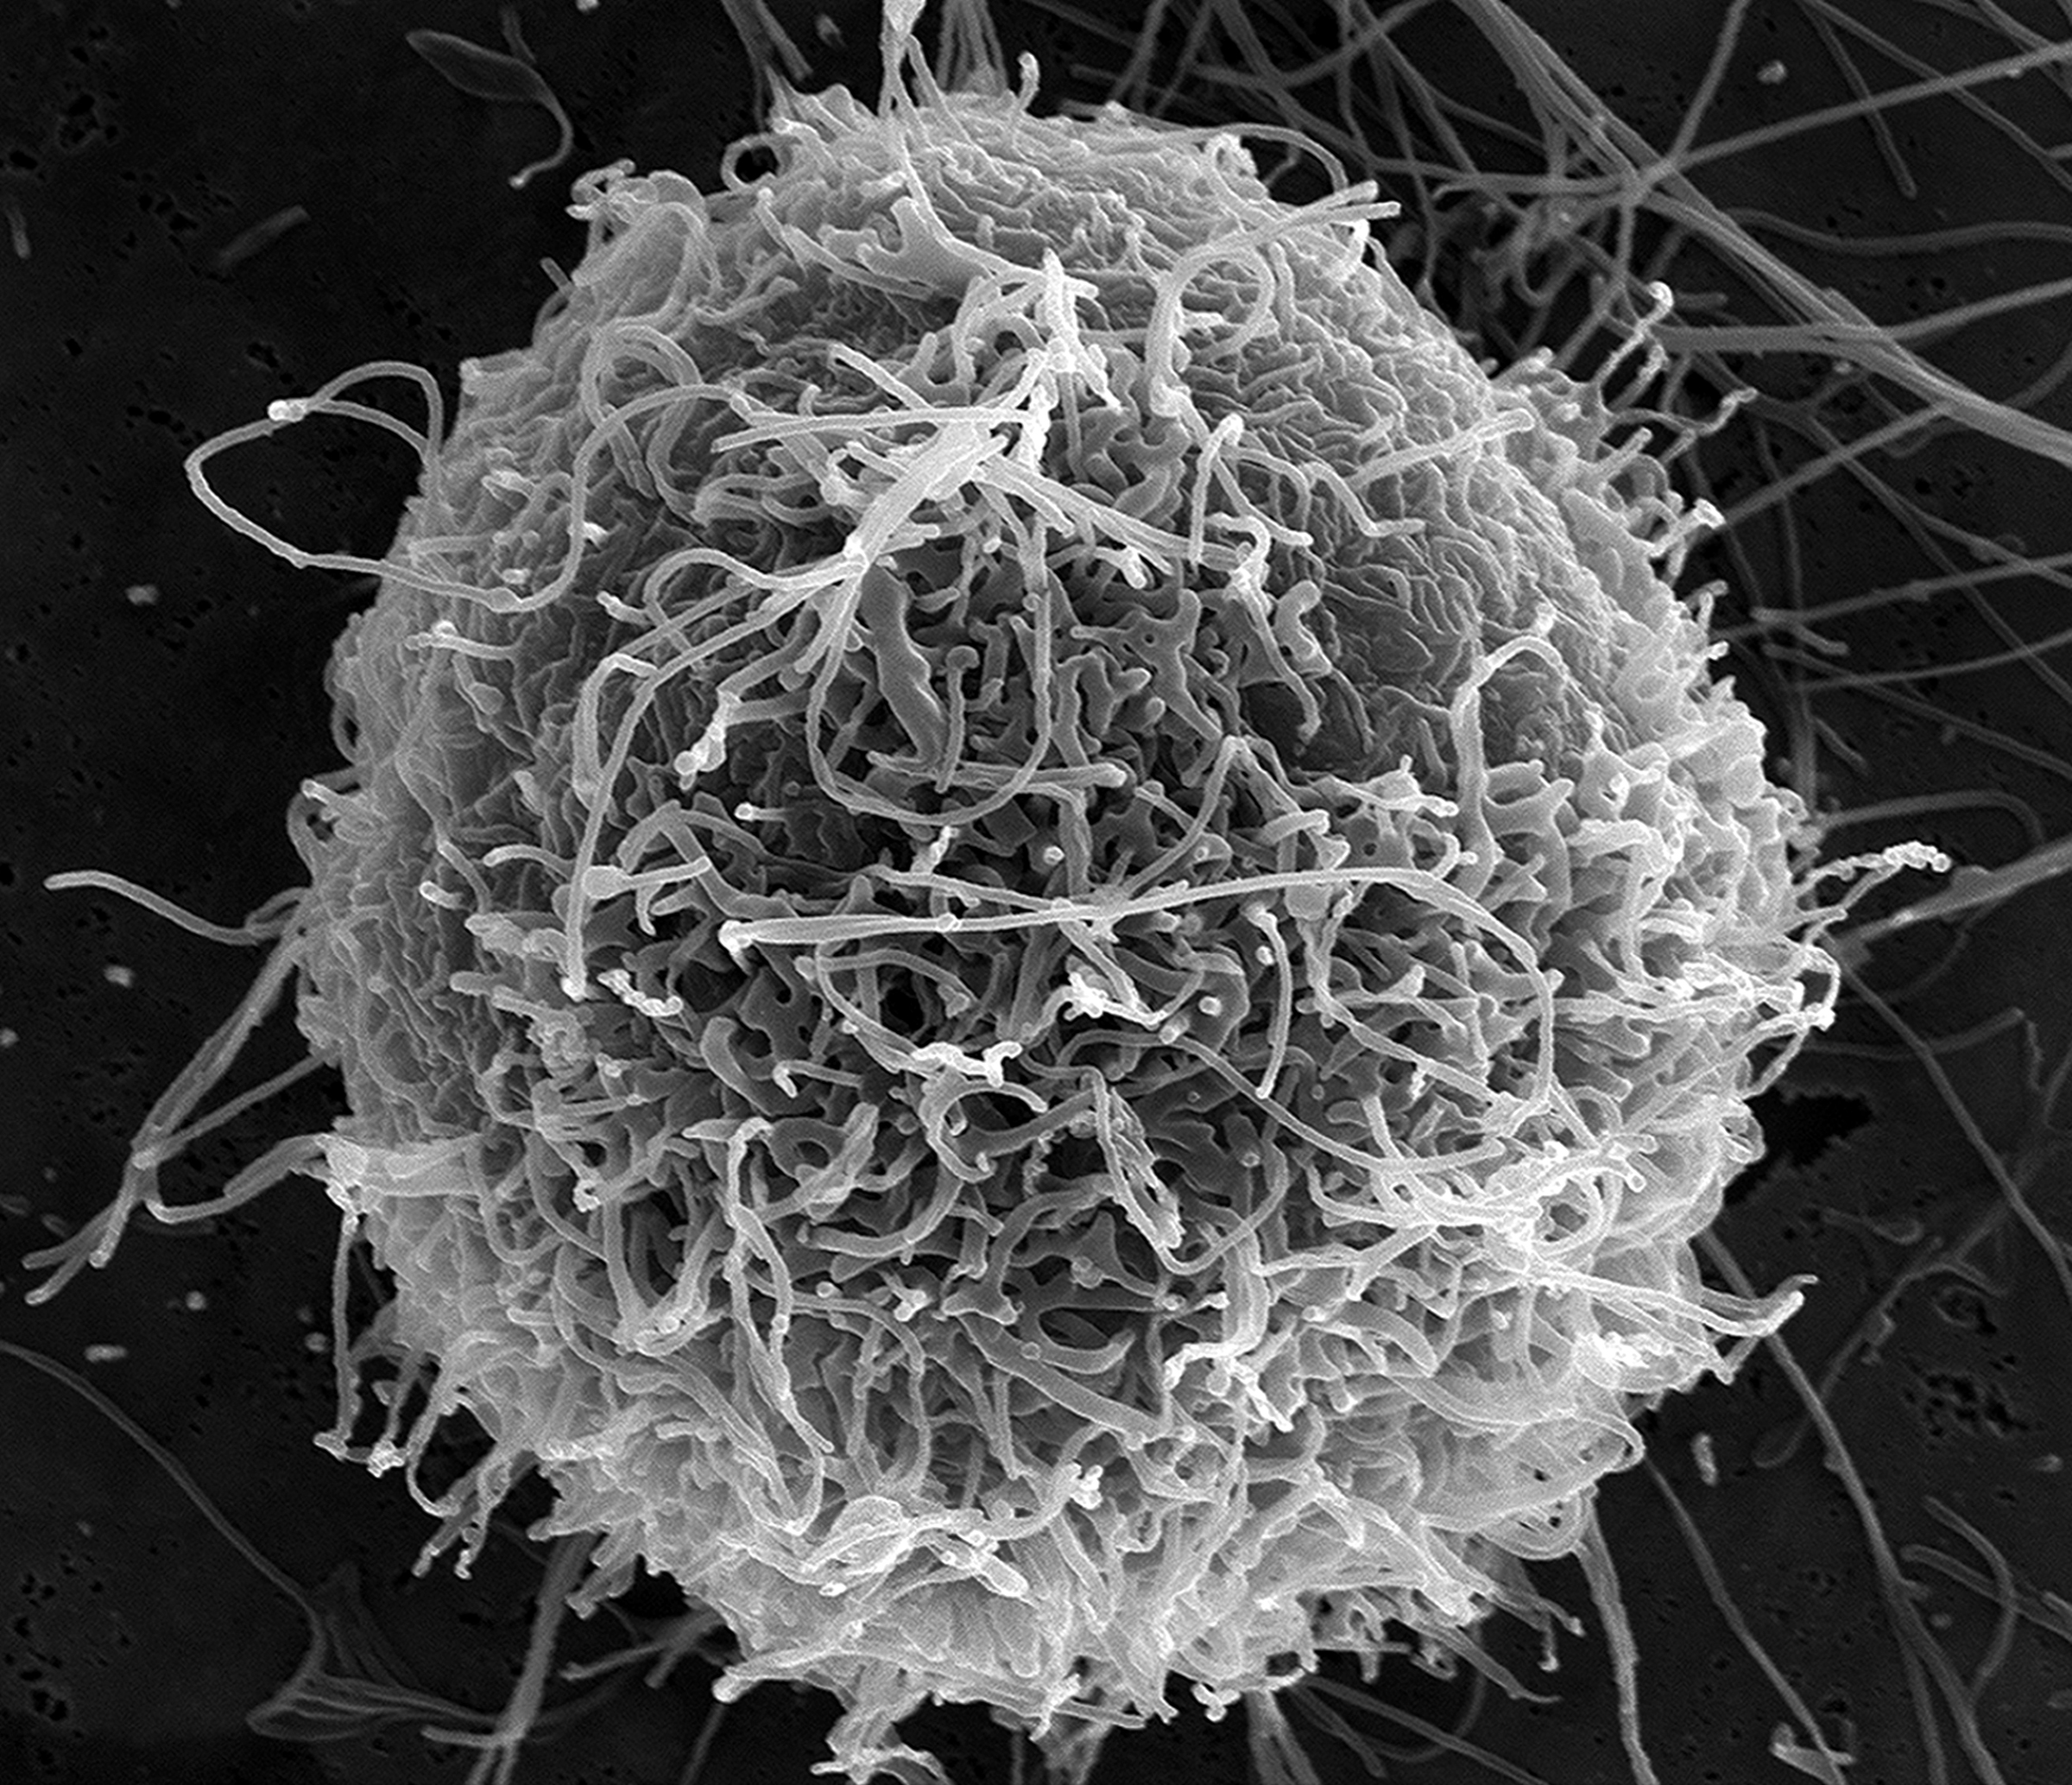EBOLA: (296, 92, 1940, 1723)
